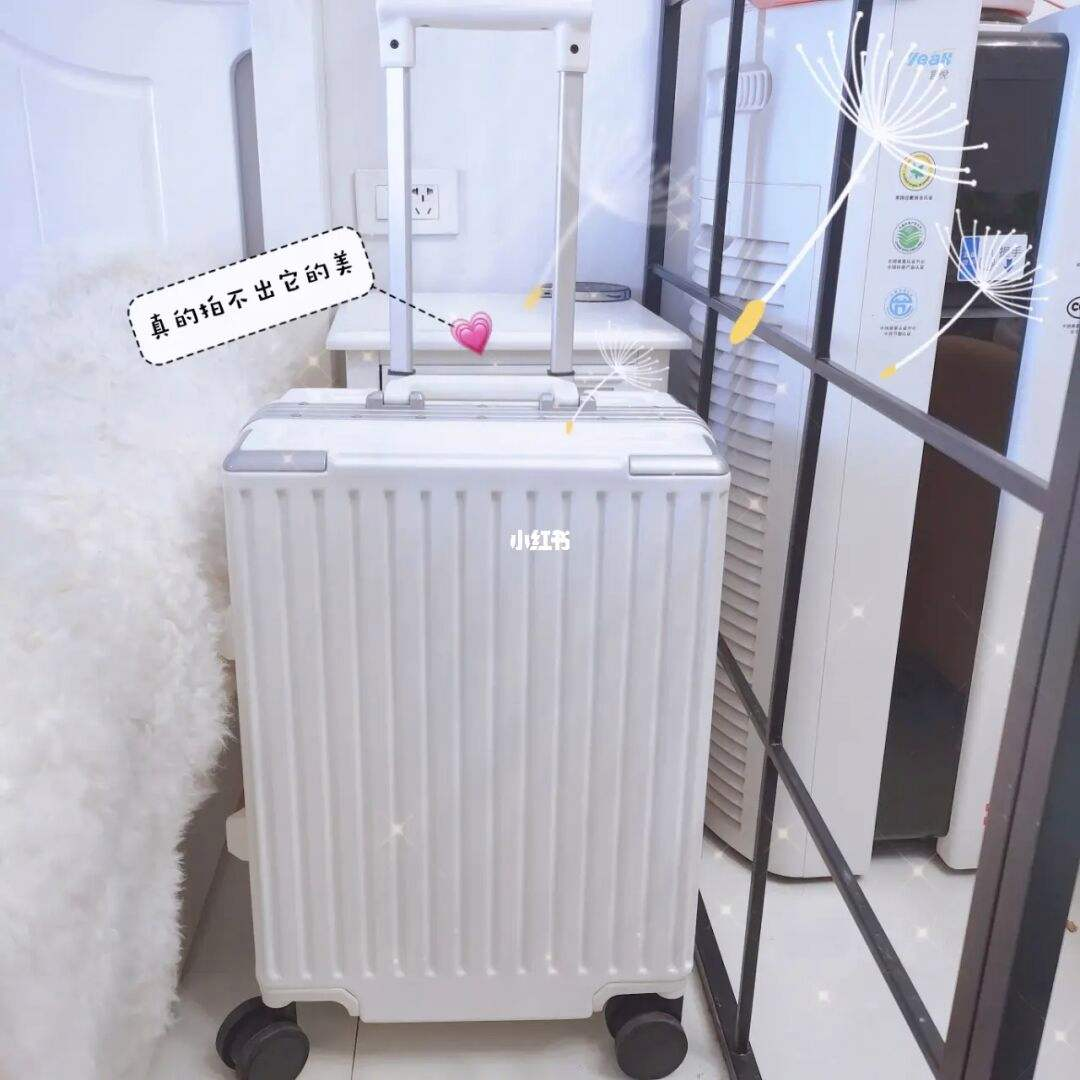box: (218, 388, 733, 1022)
handle: (366, 374, 597, 415)
wheel: (215, 997, 309, 1080), (605, 992, 688, 1080)
